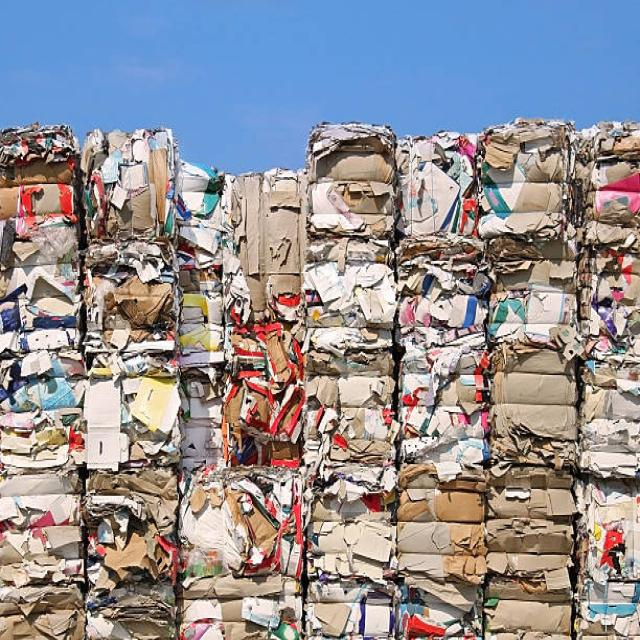cardboard: (15, 132, 640, 636)
